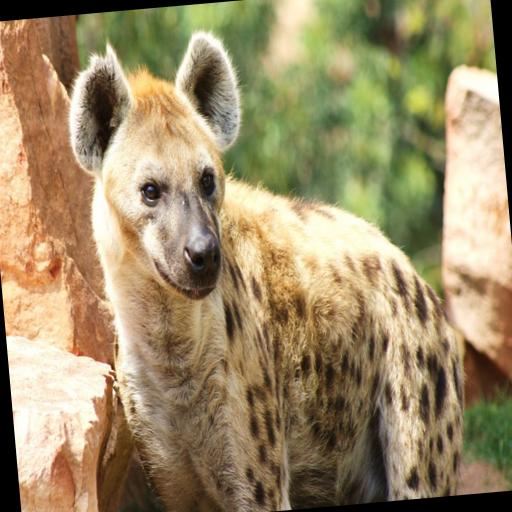hyenas: (28, 13, 484, 512)
